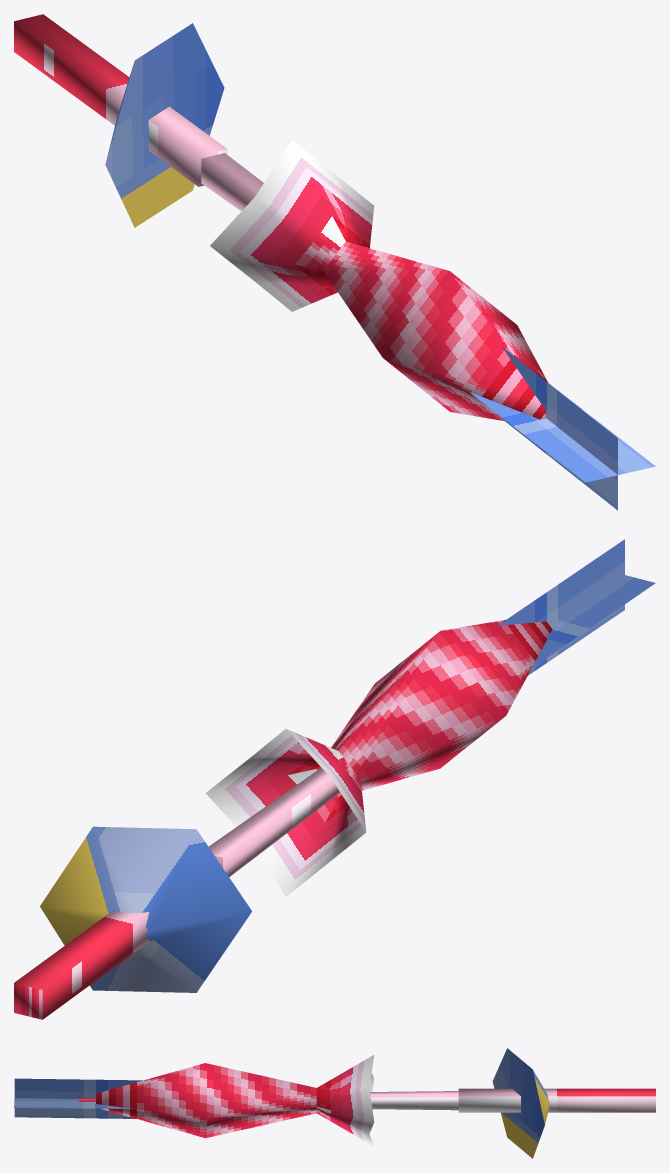
The picture shows the model from 3 angles, top to bottom: view 1: azimuth 30°, elevation 25°; view 2: azimuth 150°, elevation 25°; view 3: azimuth 270°, elevation 25°; orthographic projection. The views are drawn at different scales.
Parts seen in each view (by area): view 1: 04_04_stick; view 2: 04_04_stick; view 3: 04_04_stick.
Part boxes in pixels (x1,y1,x2,y2): 04_04_stick: (14, 14, 655, 510); 04_04_stick: (14, 539, 655, 1019); 04_04_stick: (14, 1048, 655, 1158).
Size of the model in its own units: 0.2385 by 0.2251 by 1.42.
2 materials, 2 textured.
